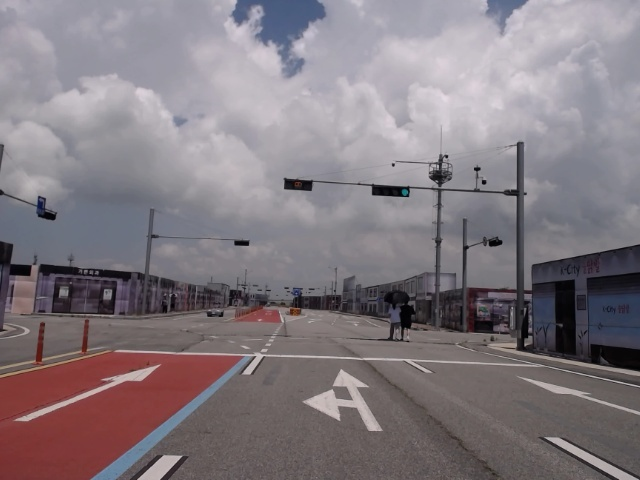straight_green_4: (372, 184, 412, 198)
